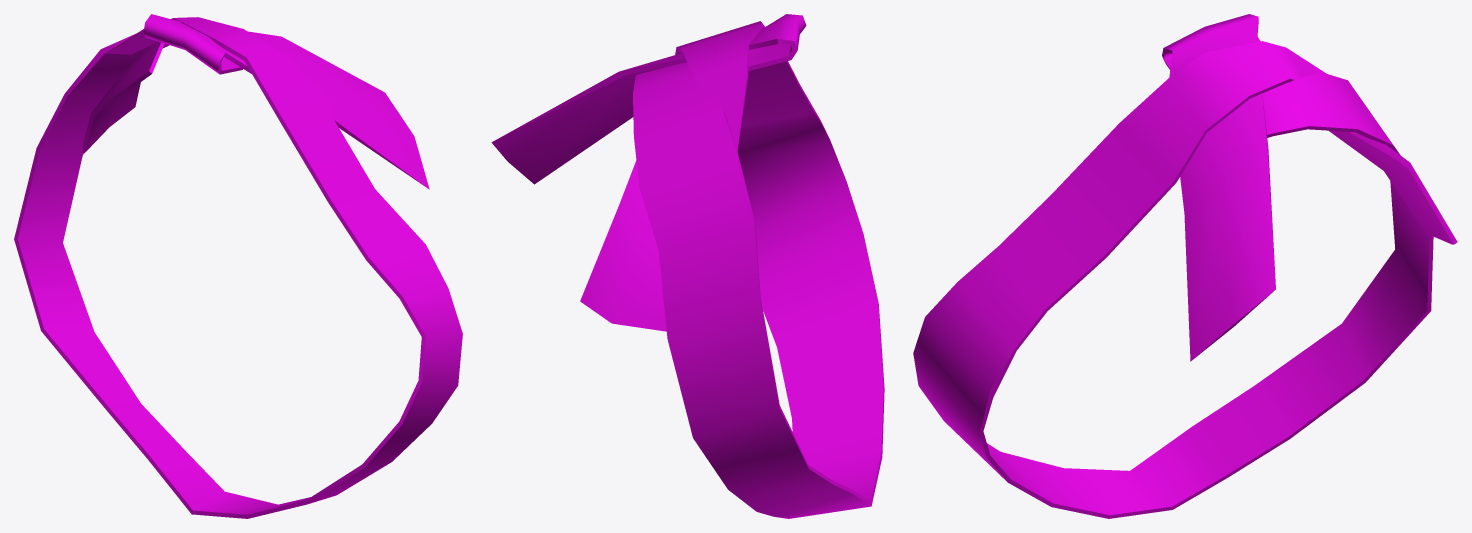
File: Torniquete_v15.fbx
The picture shows the model from 3 angles, left to right: view 1: azimuth 30°, elevation 25°; view 2: azimuth 150°, elevation 25°; view 3: azimuth 270°, elevation 25°; orthographic projection. The views are drawn at different scales.
Parts seen in each view (by area): view 1: polySurface42, polySurface46, polySurface44; view 2: polySurface42, polySurface46, polySurface44; view 3: polySurface42, polySurface46, polySurface44.
Boxes of the visible parts, x1=… form: polySurface42: x1=14, y1=17, x2=462, y2=518; polySurface46: x1=143, y1=14, x2=429, y2=189; polySurface44: x1=83, y1=42, x2=169, y2=153; polySurface42: x1=633, y1=21, x2=884, y2=518; polySurface46: x1=491, y1=14, x2=806, y2=184; polySurface44: x1=580, y1=161, x2=666, y2=331; polySurface42: x1=913, y1=41, x2=1433, y2=518; polySurface46: x1=1162, y1=14, x2=1275, y2=361; polySurface44: x1=1329, y1=130, x2=1457, y2=244.
Size of the model in its own units: 0.088 by 0.1205 by 0.1246.
